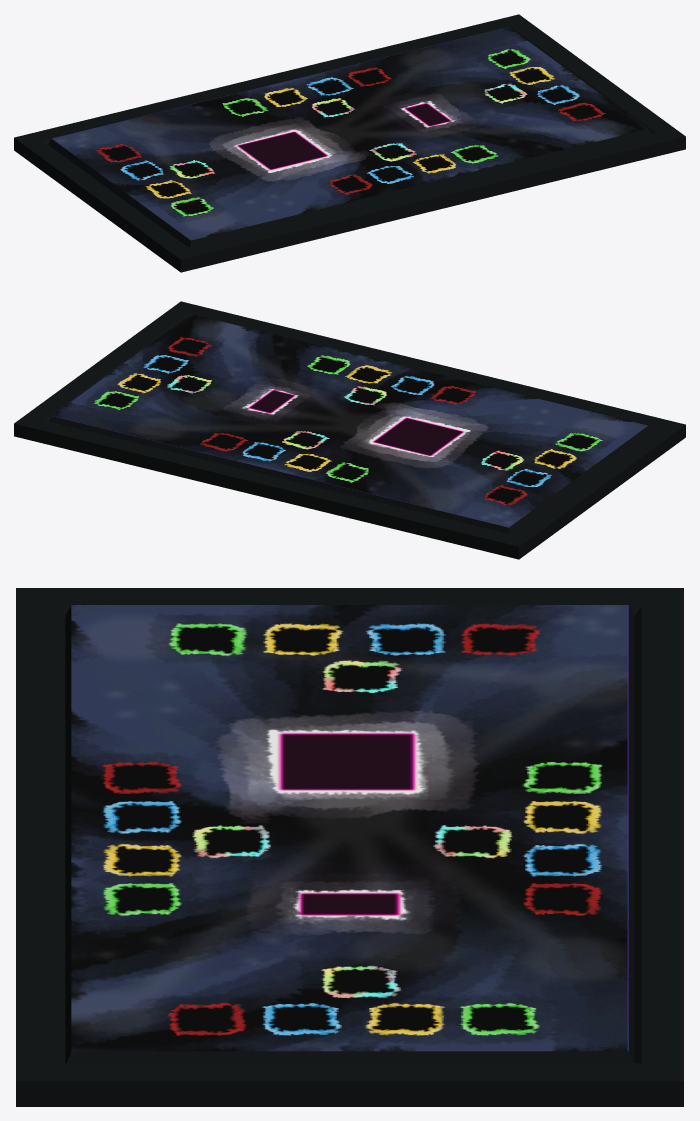
The model's file is Tablero_Virus.fbx.
3 views of the same model, one above another, from view 1: azimuth 30°, elevation 25°; view 2: azimuth 150°, elevation 25°; view 3: azimuth 270°, elevation 25° (orthographic). The views are drawn at different scales.
Parts seen in each view (by area): view 1: TABLERO VIRUS; view 2: TABLERO VIRUS; view 3: TABLERO VIRUS.
Boxes of the visible parts, bbox=[...] form: TABLERO VIRUS: bbox=[14, 14, 685, 272]; TABLERO VIRUS: bbox=[14, 301, 685, 559]; TABLERO VIRUS: bbox=[16, 588, 683, 1106].
Bounding box in the file's own units: 365 × 11.12 × 209.
